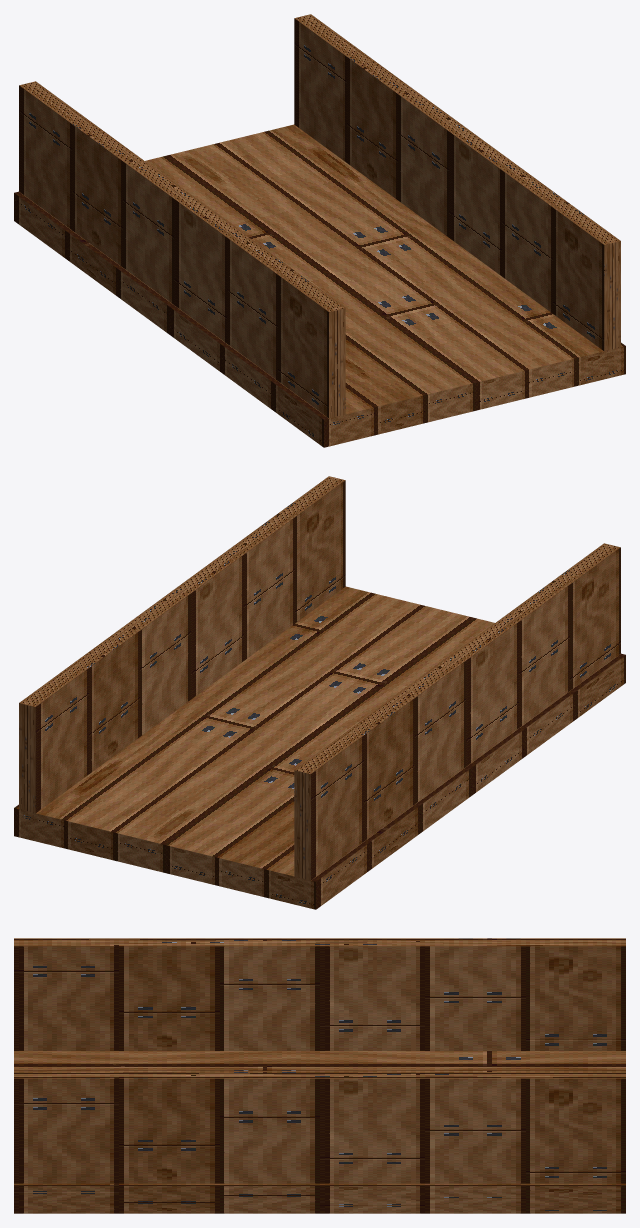
Rendered from ponte.glb.
The picture shows the model from 3 angles, top to bottom: view 1: azimuth 30°, elevation 25°; view 2: azimuth 150°, elevation 25°; view 3: azimuth 270°, elevation 25°; orthographic projection.
Parts seen in each view (by area): view 1: ponte; view 2: ponte; view 3: ponte.
Boxes of the visible parts, x1,y1,x2,y2 form: ponte: (14,14,625,447); ponte: (14,476,625,909); ponte: (14,938,625,1213).
Size of the model in its own units: 1.8 by 0.765 by 3.2.
Materials: 1 (1 with a texture image).
